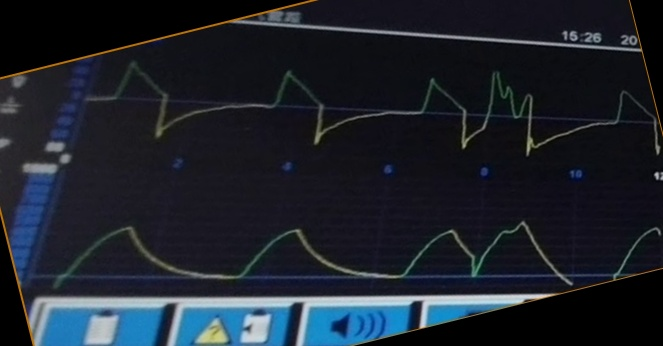Double_Triggering Flow: (93, 55, 660, 158)
Double_Triggering Volume: (92, 212, 573, 284)
